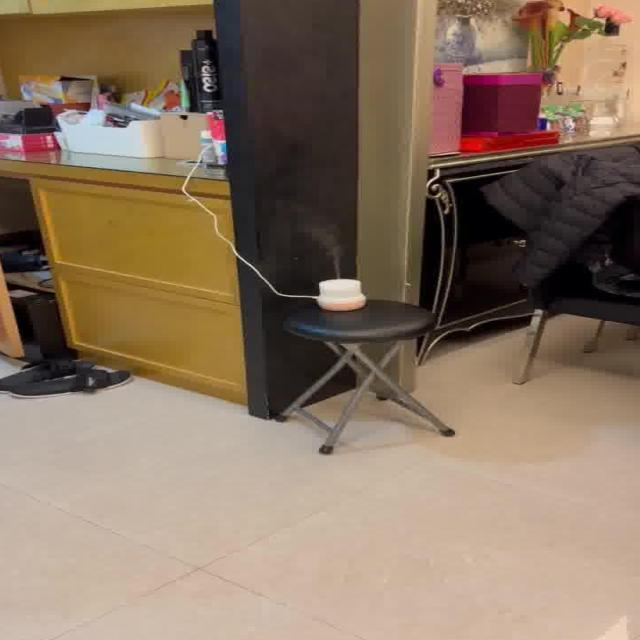fire: (276, 206, 346, 275)
